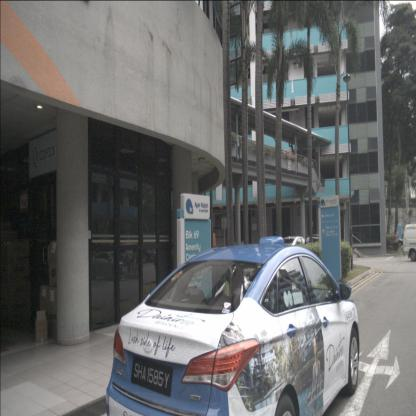human-pedestrian-adult: (394, 230, 399, 254)
vehicle-car: (105, 238, 360, 416), (89, 252, 123, 282), (402, 223, 416, 261)
